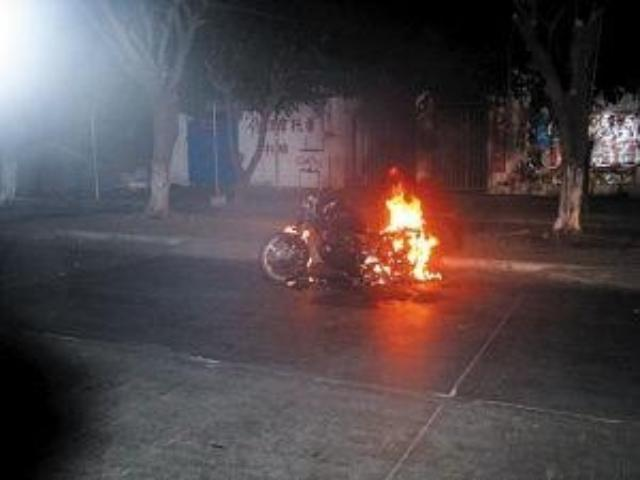fire: (363, 188, 442, 279), (284, 224, 309, 239)
smoke: (326, 79, 510, 258)
